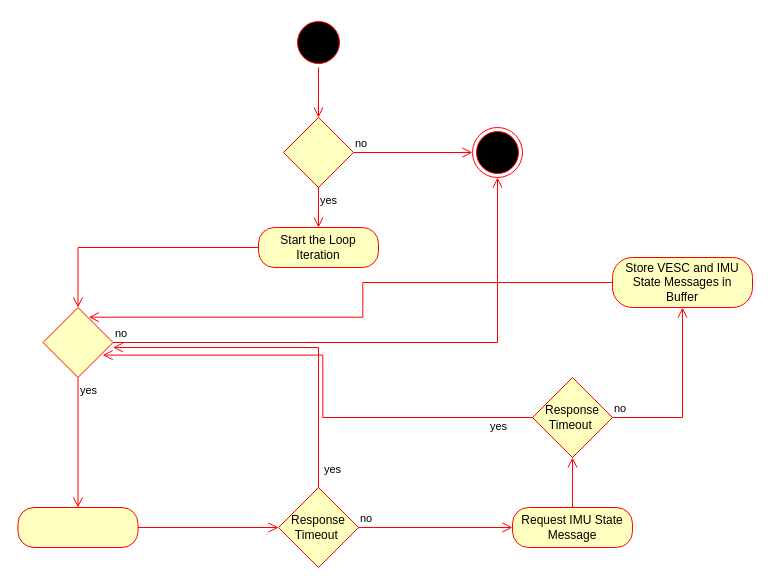
Image size: 770x585. Some labels were removed from this diagram. Here are the shapes that lost their labels. From the top down, the box of each, then its label:
(282, 116, 354, 188): Active Riding
(42, 306, 113, 378): Active Ride On
(17, 506, 138, 548): Request VESC State Message
